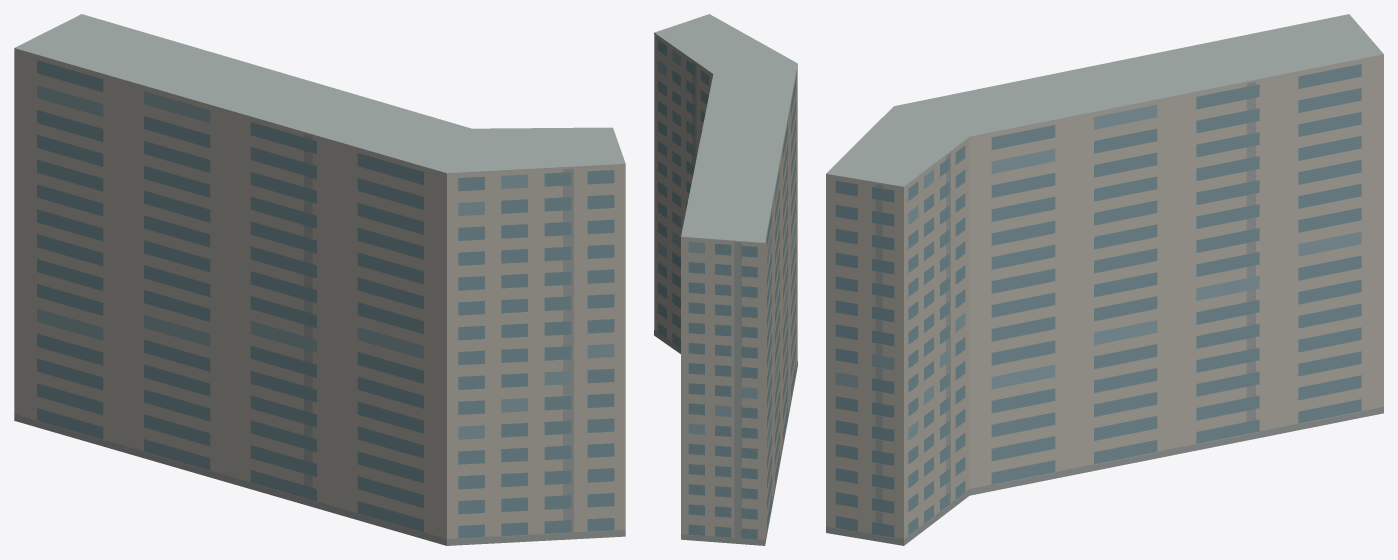
The model's file is residential-72b30a62-3483-4eae-8273-5e322a3ec551.glb.
3 views of the same model, side by side, from view 1: azimuth 30°, elevation 25°; view 2: azimuth 150°, elevation 25°; view 3: azimuth 270°, elevation 25° (orthographic). The views are drawn at different scales.
Visible parts, largest first — view 1: residential-72b30a62-3483-4eae-8273-5e322a3ec551.tmp; view 2: residential-72b30a62-3483-4eae-8273-5e322a3ec551.tmp; view 3: residential-72b30a62-3483-4eae-8273-5e322a3ec551.tmp.
Part boxes in pixels (x1,y1,x2,y2): residential-72b30a62-3483-4eae-8273-5e322a3ec551.tmp: (14,14,625,545); residential-72b30a62-3483-4eae-8273-5e322a3ec551.tmp: (654,14,797,545); residential-72b30a62-3483-4eae-8273-5e322a3ec551.tmp: (826,14,1383,545).
Bounding box in the file's own units: 47.23 × 45.75 × 64.42.
